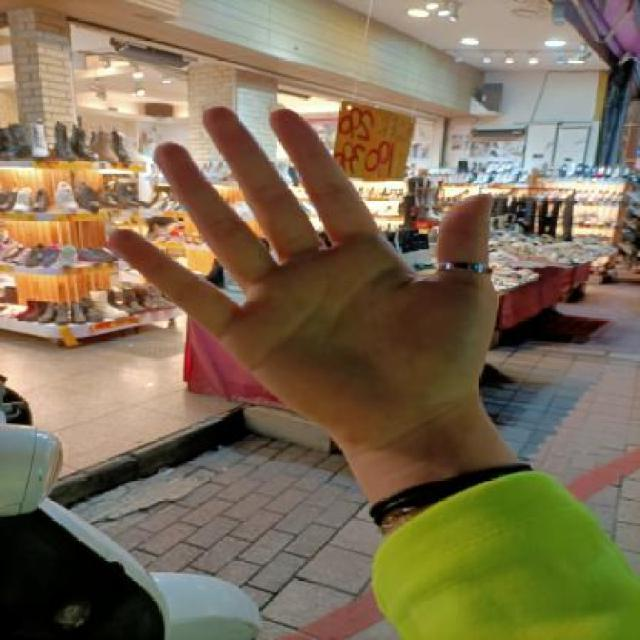bare_hand: (98, 94, 511, 463)
